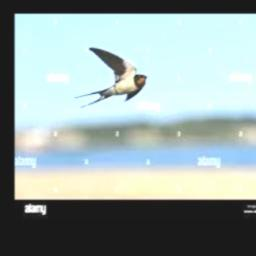Swallow: (75, 47, 146, 107)
